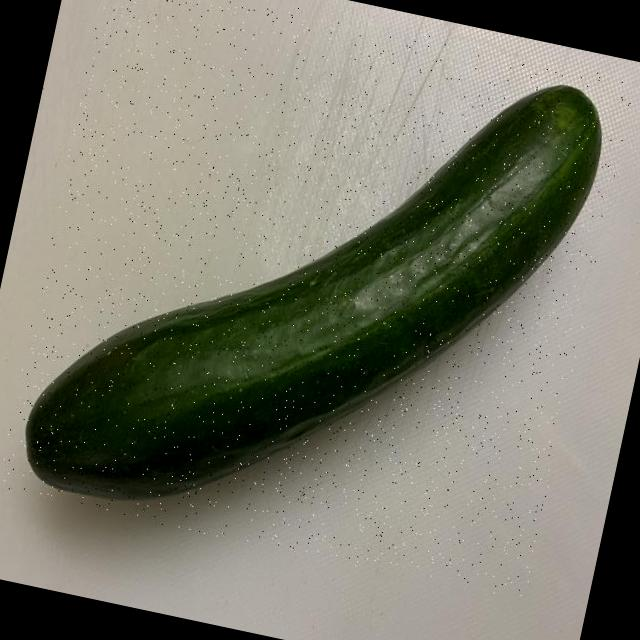Cucumber: (12, 0, 610, 580)
